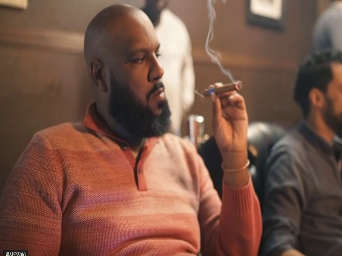smoke: (202, 82, 244, 94)
